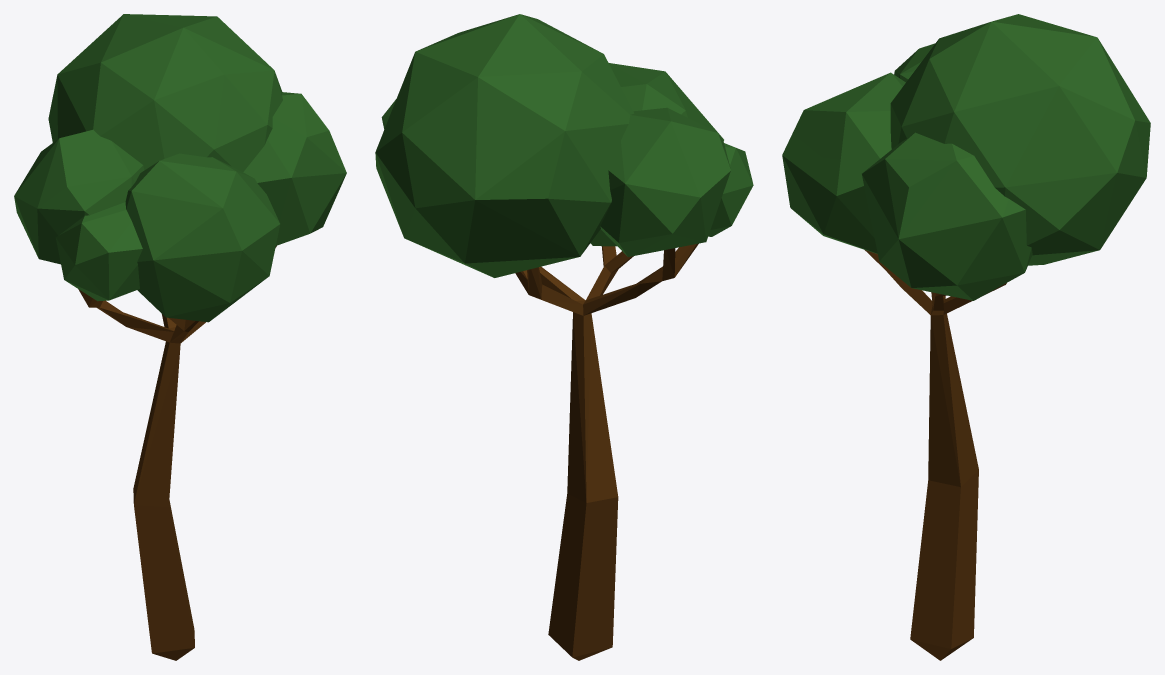
Rendered from Tree1.fbx.
3 views of the same model, side by side, from view 1: azimuth 30°, elevation 25°; view 2: azimuth 150°, elevation 25°; view 3: azimuth 270°, elevation 25° (orthographic). The views are drawn at different scales.
Parts seen in each view (by area): view 1: Tree1; view 2: Tree1; view 3: Tree1.
Boxes of the visible parts, left/top/right/bottom form: Tree1: left=14, top=14, right=346, bottom=660; Tree1: left=375, top=14, right=753, bottom=660; Tree1: left=782, top=14, right=1150, bottom=660.
Bounding box in the file's own units: 851 × 1686 × 859.
